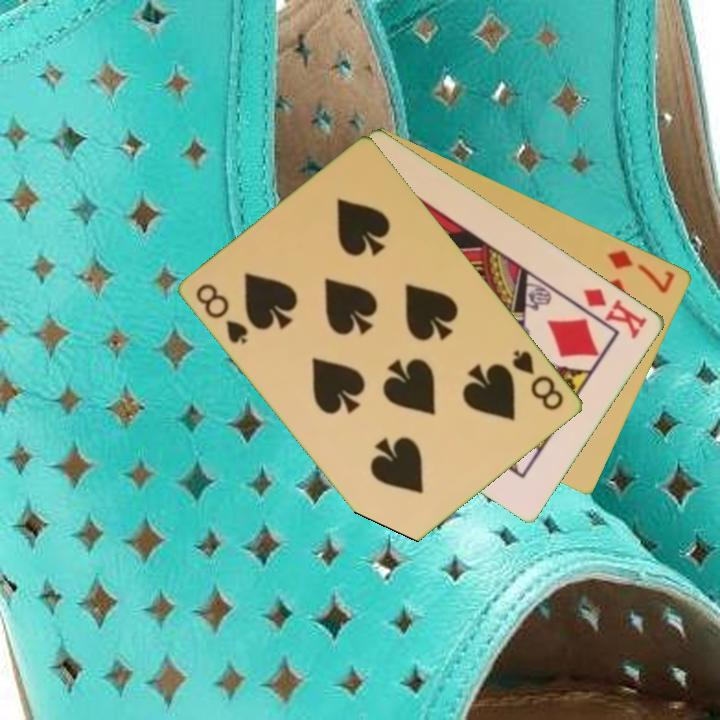7d: (604, 246, 678, 296)
8s: (192, 280, 252, 347), (509, 346, 567, 414)
Kd: (579, 284, 651, 342)
